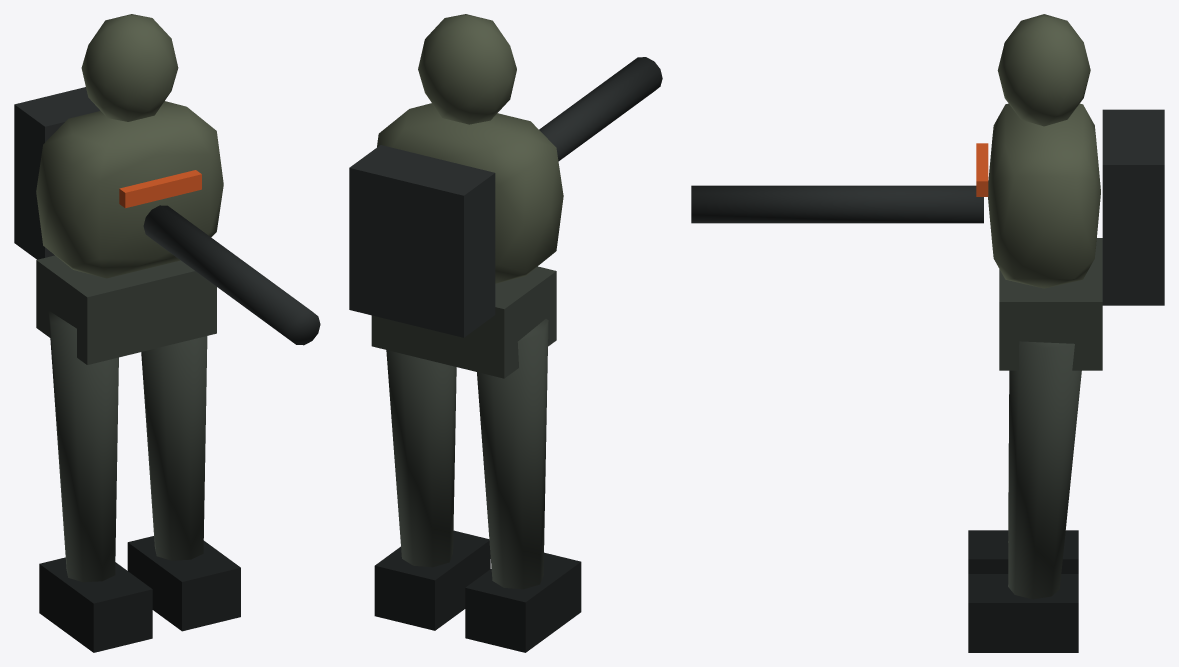
Rendered from Bastion_FlameTrooper_LOD2.obj.
3 views of the same model, side by side, from view 1: azimuth 30°, elevation 25°; view 2: azimuth 150°, elevation 25°; view 3: azimuth 270°, elevation 25° (orthographic). The views are drawn at different scales.
Parts seen in each view (by area): view 1: LOD2Torso, LOD2LeftLeg, LOD2Pelvis, LOD2RightLeg, LOD2Head, LOD2LeftBoot, LOD2Weapon, LOD2RightBoot, LOD2Pack, LOD2Accent; view 2: LOD2Pack, LOD2Torso, LOD2LeftLeg, LOD2RightLeg, LOD2Pelvis, LOD2Head, LOD2LeftBoot, LOD2RightBoot, LOD2Weapon; view 3: LOD2Torso, LOD2RightLeg, LOD2Pack, LOD2Weapon, LOD2Pelvis, LOD2Head, LOD2RightBoot, LOD2LeftBoot, LOD2Accent.
Boxes of the visible parts, x1,y1,x2,y2 form: LOD2Torso: (36, 101, 223, 278); LOD2LeftLeg: (48, 311, 118, 582); LOD2Pelvis: (36, 255, 216, 364); LOD2RightLeg: (141, 336, 207, 560); LOD2Head: (81, 14, 178, 121); LOD2LeftBoot: (39, 557, 152, 652); LOD2Weapon: (143, 205, 320, 345); LOD2RightBoot: (127, 536, 240, 631); LOD2Pack: (14, 87, 100, 259); LOD2Accent: (119, 170, 201, 208); LOD2Pack: (349, 145, 495, 337); LOD2Torso: (377, 103, 563, 283); LOD2LeftLeg: (477, 319, 548, 589); LOD2RightLeg: (386, 350, 456, 567); LOD2Pelvis: (371, 266, 556, 378); LOD2Head: (418, 14, 516, 124); LOD2LeftBoot: (465, 552, 581, 652); LOD2RightBoot: (374, 530, 490, 630); LOD2Weapon: (539, 57, 662, 161); LOD2Torso: (988, 103, 1100, 288); LOD2RightLeg: (1008, 341, 1081, 599); LOD2Pack: (1102, 109, 1164, 305); LOD2Weapon: (691, 185, 983, 223); LOD2Pelvis: (999, 238, 1102, 370); LOD2Head: (997, 14, 1090, 126); LOD2RightBoot: (968, 574, 1078, 652); LOD2LeftBoot: (968, 530, 1078, 573); LOD2Accent: (976, 143, 988, 196).
Size of the model in its own units: 0.55 by 1.92 by 1.37.
Materials: 1 (1 with a texture image).
